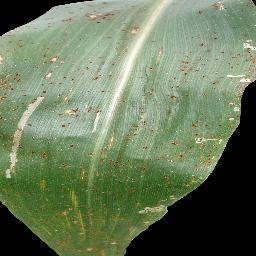Corn_Common_Rust: (0, 0, 254, 100), (0, 100, 244, 178), (0, 177, 211, 256)
